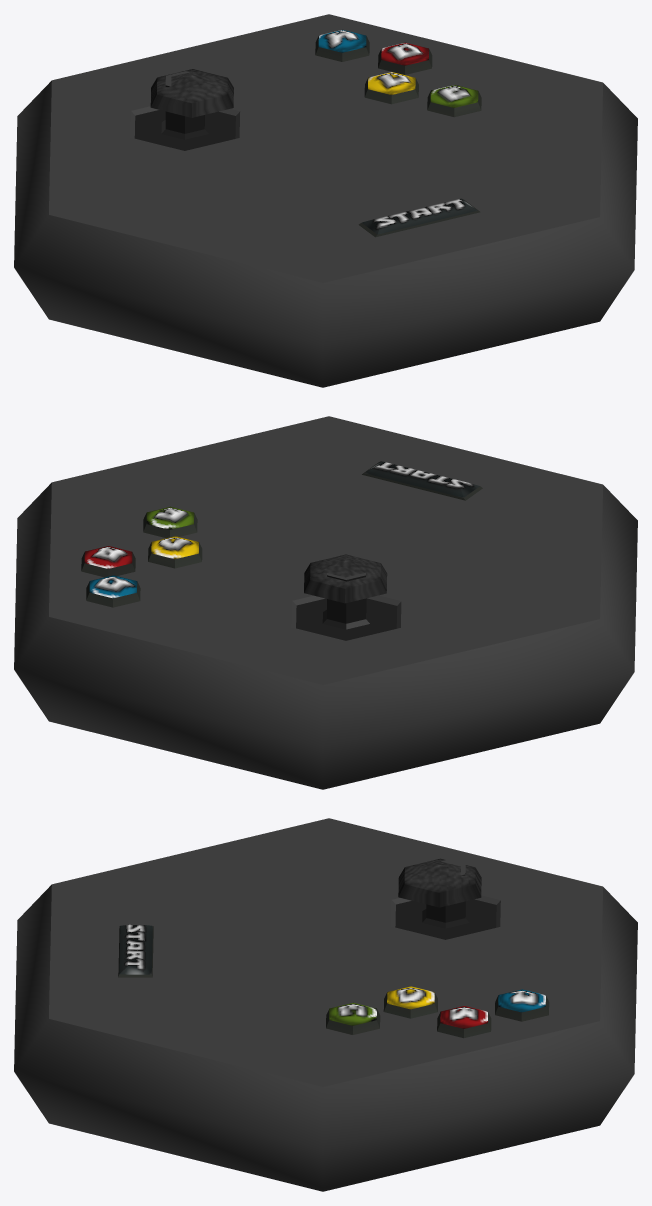
File: Controller_01.FBX
The picture shows the model from 3 angles, top to bottom: view 1: azimuth 30°, elevation 25°; view 2: azimuth 150°, elevation 25°; view 3: azimuth 270°, elevation 25°; orthographic projection.
Parts seen in each view (by area): view 1: Controller; view 2: Controller; view 3: Controller.
Part boxes in pixels (bbox=[...]): Controller: bbox=[14, 14, 637, 387]; Controller: bbox=[14, 416, 637, 789]; Controller: bbox=[14, 818, 637, 1191].
Bounding box in the file's own units: 27.96 × 6.66 × 24.34.
